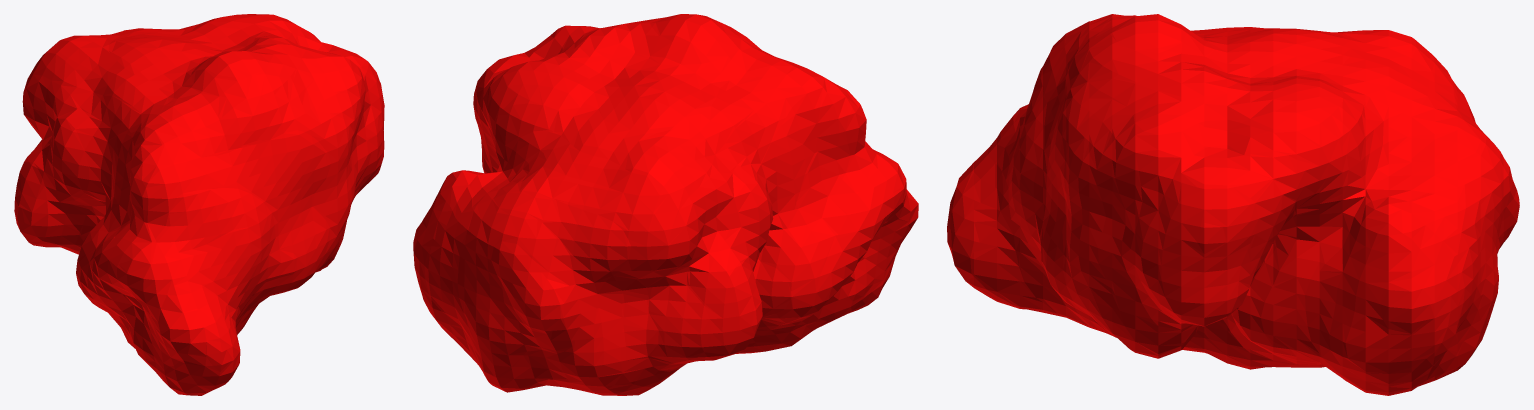
Rendered from ygjR_coarse.dae.
3 views of the same model, side by side, from view 1: azimuth 30°, elevation 25°; view 2: azimuth 150°, elevation 25°; view 3: azimuth 270°, elevation 25° (orthographic). The views are drawn at different scales.
Parts seen in each view (by area): view 1: ygjR; view 2: ygjR; view 3: ygjR.
Part boxes in pixels (x1,y1,x2,y2): ygjR: (14,14,384,395); ygjR: (413,14,918,395); ygjR: (947,14,1519,395).
Size of the model in its own units: 52.97 by 45.03 by 66.4.
